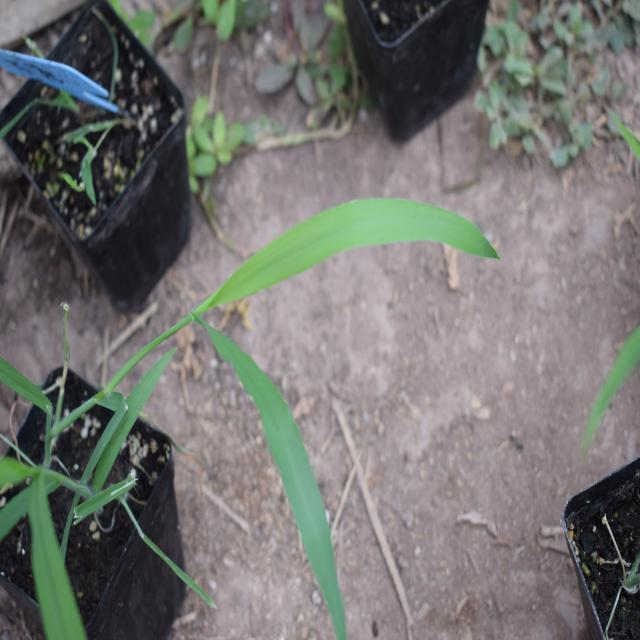crabgrass: (150, 159, 482, 591)
